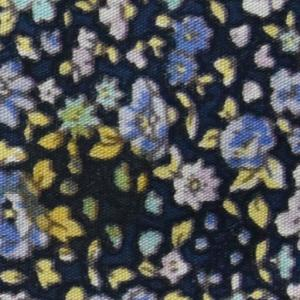Stain: (15, 86, 185, 274)
